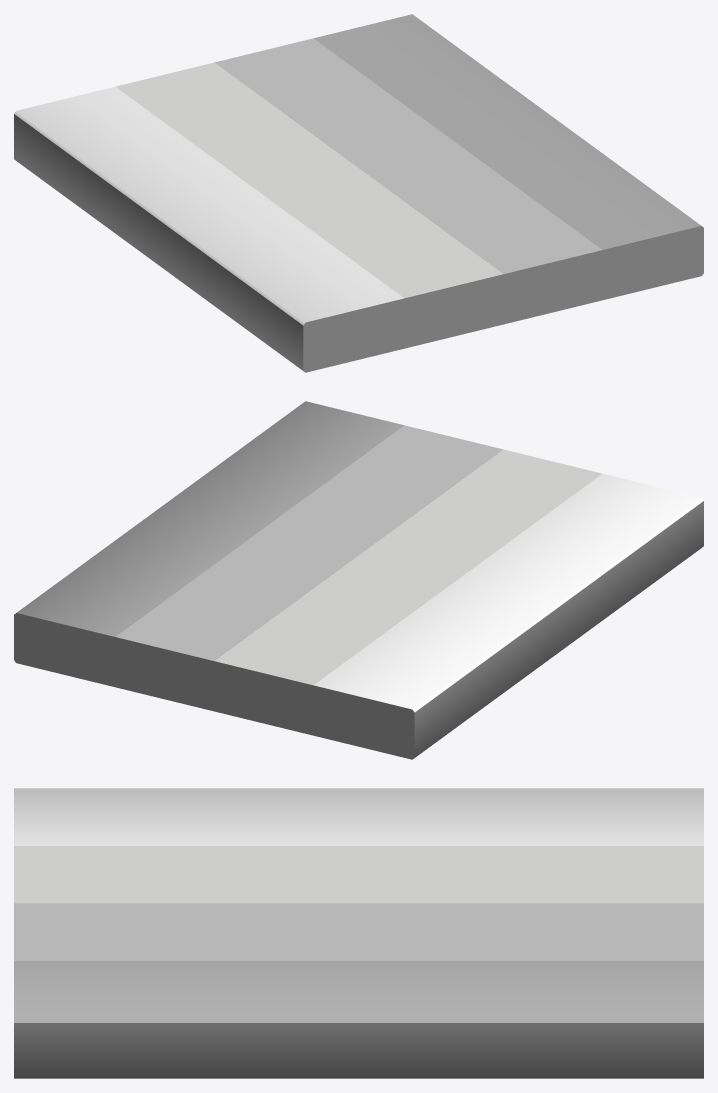
The model's file is road04.FBX.
3 views of the same model, one above another, from view 1: azimuth 30°, elevation 25°; view 2: azimuth 150°, elevation 25°; view 3: azimuth 270°, elevation 25° (orthographic). The views are drawn at different scales.
Visible parts, largest first — view 1: road04; view 2: road04; view 3: road04.
Boxes of the visible parts, left/top/right/bottom form: road04: left=14, top=14, right=703, bottom=372; road04: left=14, top=401, right=703, bottom=759; road04: left=14, top=788, right=703, bottom=1078.
Size of the model in its own units: 12 by 1.44 by 15.
1 material, 1 textured.
